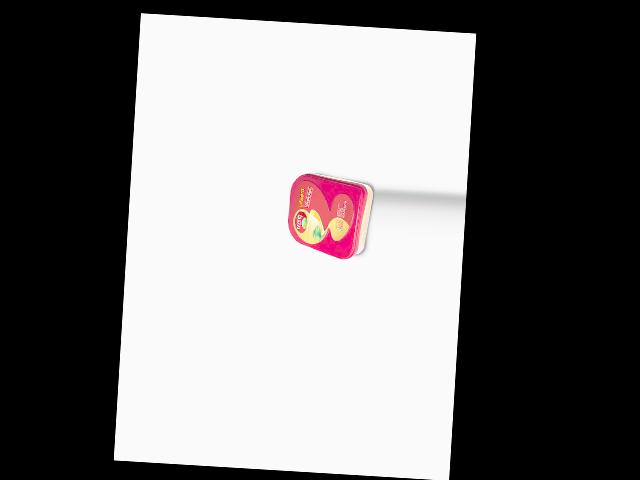cheese: (285, 172, 374, 261)
